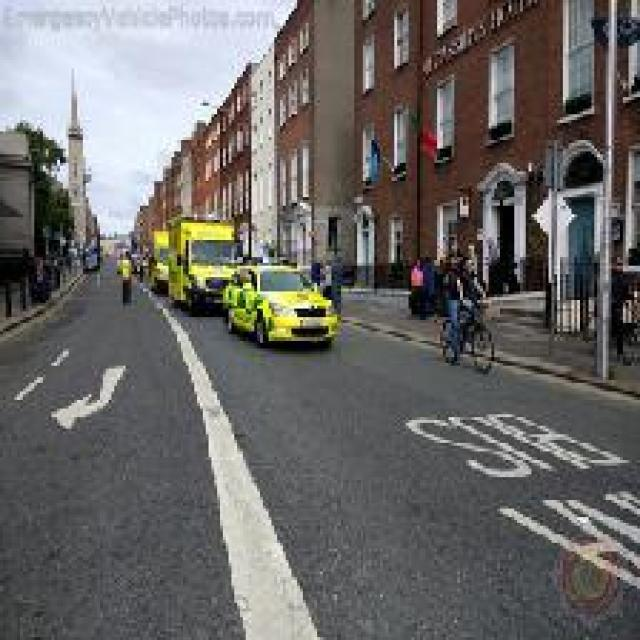emergency: (218, 256, 342, 352), (163, 212, 244, 316)
